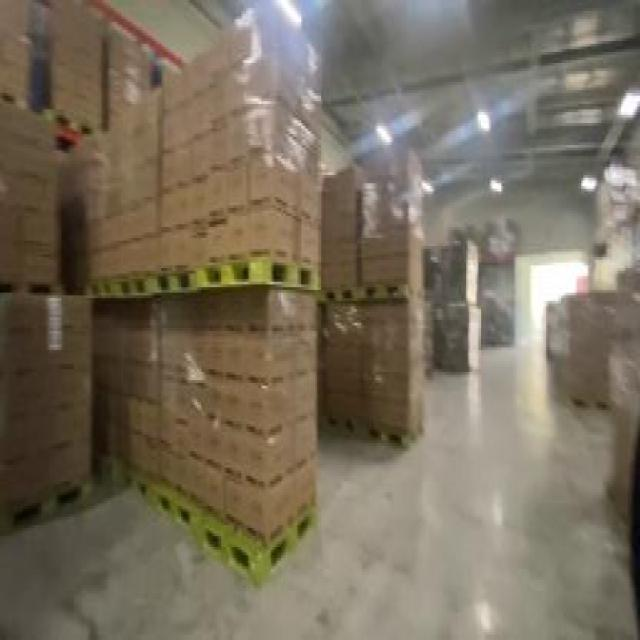box: (84, 49, 318, 591), (2, 0, 102, 509), (316, 140, 430, 454), (546, 287, 639, 413), (432, 227, 483, 383), (478, 210, 516, 352)
